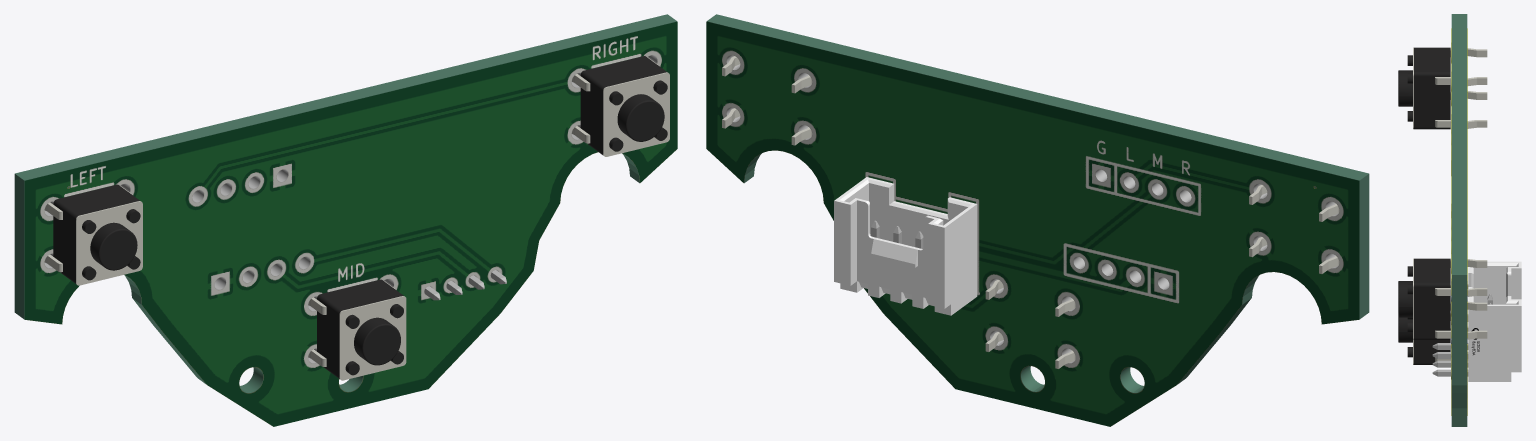
Rendered from assembly.glb.
3 views of the same model, side by side, from view 1: azimuth 30°, elevation 25°; view 2: azimuth 150°, elevation 25°; view 3: azimuth 270°, elevation 25° (orthographic). The views are drawn at different scales.
Parts seen in each view (by area): view 1: pet-keys_PCB top surface texture overlay, o1.8, o1.1.1, o1.2.1, o1.3.1, o1.6, o1.4.1; view 2: pet-keys_PCB bottom surface texture overlay, o1.4.1, o1.8, o1.6, o1.3.1, o1.1.1, o1.2.1; view 3: o1.8, o1.4.1, o1.2.1, o1.3.1, o1.1.1, o1.5, o1.6.
Boxes of the visible parts, x1,y1,x2,y2 form: pet-keys_PCB top surface texture overlay: (24, 21, 677, 426); o1.8: (14, 14, 676, 393); o1.1.1: (308, 279, 406, 380); o1.2.1: (44, 184, 142, 285); o1.3.1: (571, 56, 669, 156); o1.6: (44, 55, 657, 363); o1.4.1: (424, 270, 506, 300); pet-keys_PCB bottom surface texture overlay: (706, 21, 1359, 426); o1.4.1: (834, 177, 977, 315); o1.8: (707, 14, 1369, 393); o1.6: (726, 55, 1339, 363); o1.3.1: (722, 56, 812, 145); o1.1.1: (985, 279, 1075, 368); o1.2.1: (1249, 185, 1339, 273); o1.8: (1451, 14, 1467, 426); o1.4.1: (1432, 261, 1521, 381); o1.2.1: (1398, 47, 1487, 129); o1.3.1: (1398, 258, 1487, 339); o1.1.1: (1398, 284, 1468, 364); o1.5: (1451, 28, 1467, 415); o1.6: (1451, 43, 1467, 379).
Size of the model in its own units: 0.059 by 0.0265 by 0.0118.
10 materials, 2 textured.
